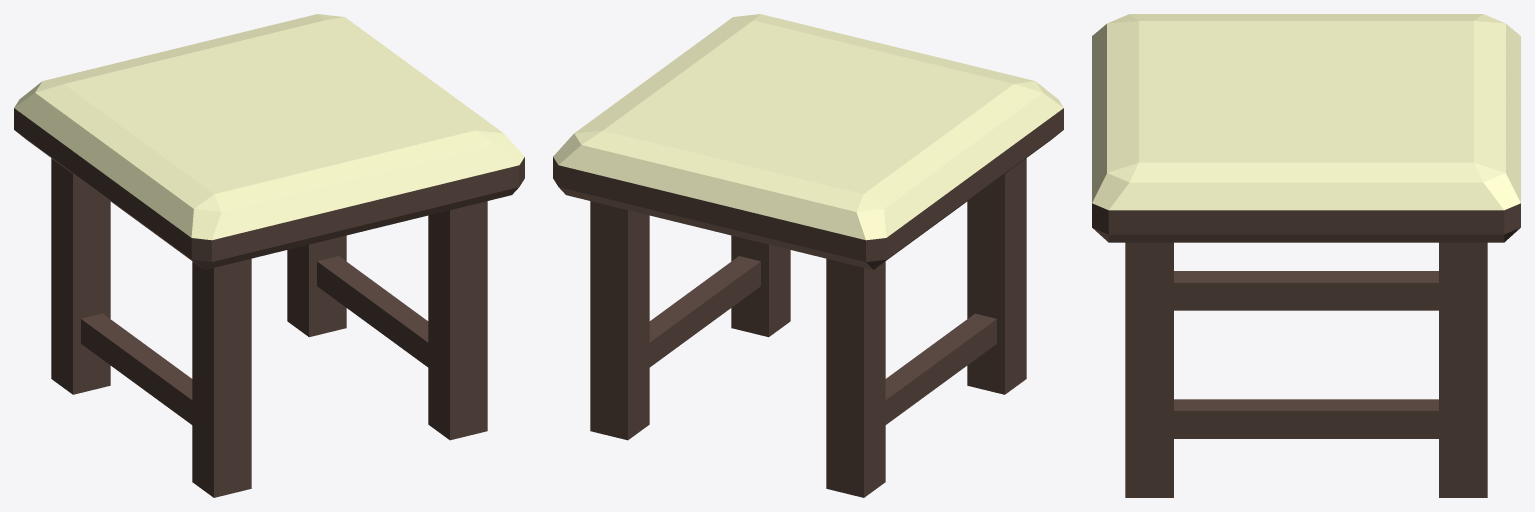
File: Stool.fbx
3 views of the same model, side by side, from view 1: azimuth 30°, elevation 25°; view 2: azimuth 150°, elevation 25°; view 3: azimuth 270°, elevation 25° (orthographic). The views are drawn at different scales.
Parts seen in each view (by area): view 1: Cube; view 2: Cube; view 3: Cube.
Part boxes in pixels (bbox=[...]): Cube: bbox=[14, 14, 524, 497]; Cube: bbox=[553, 14, 1063, 497]; Cube: bbox=[1092, 14, 1520, 497].
Size of the model in its own units: 477 by 477 by 407.
